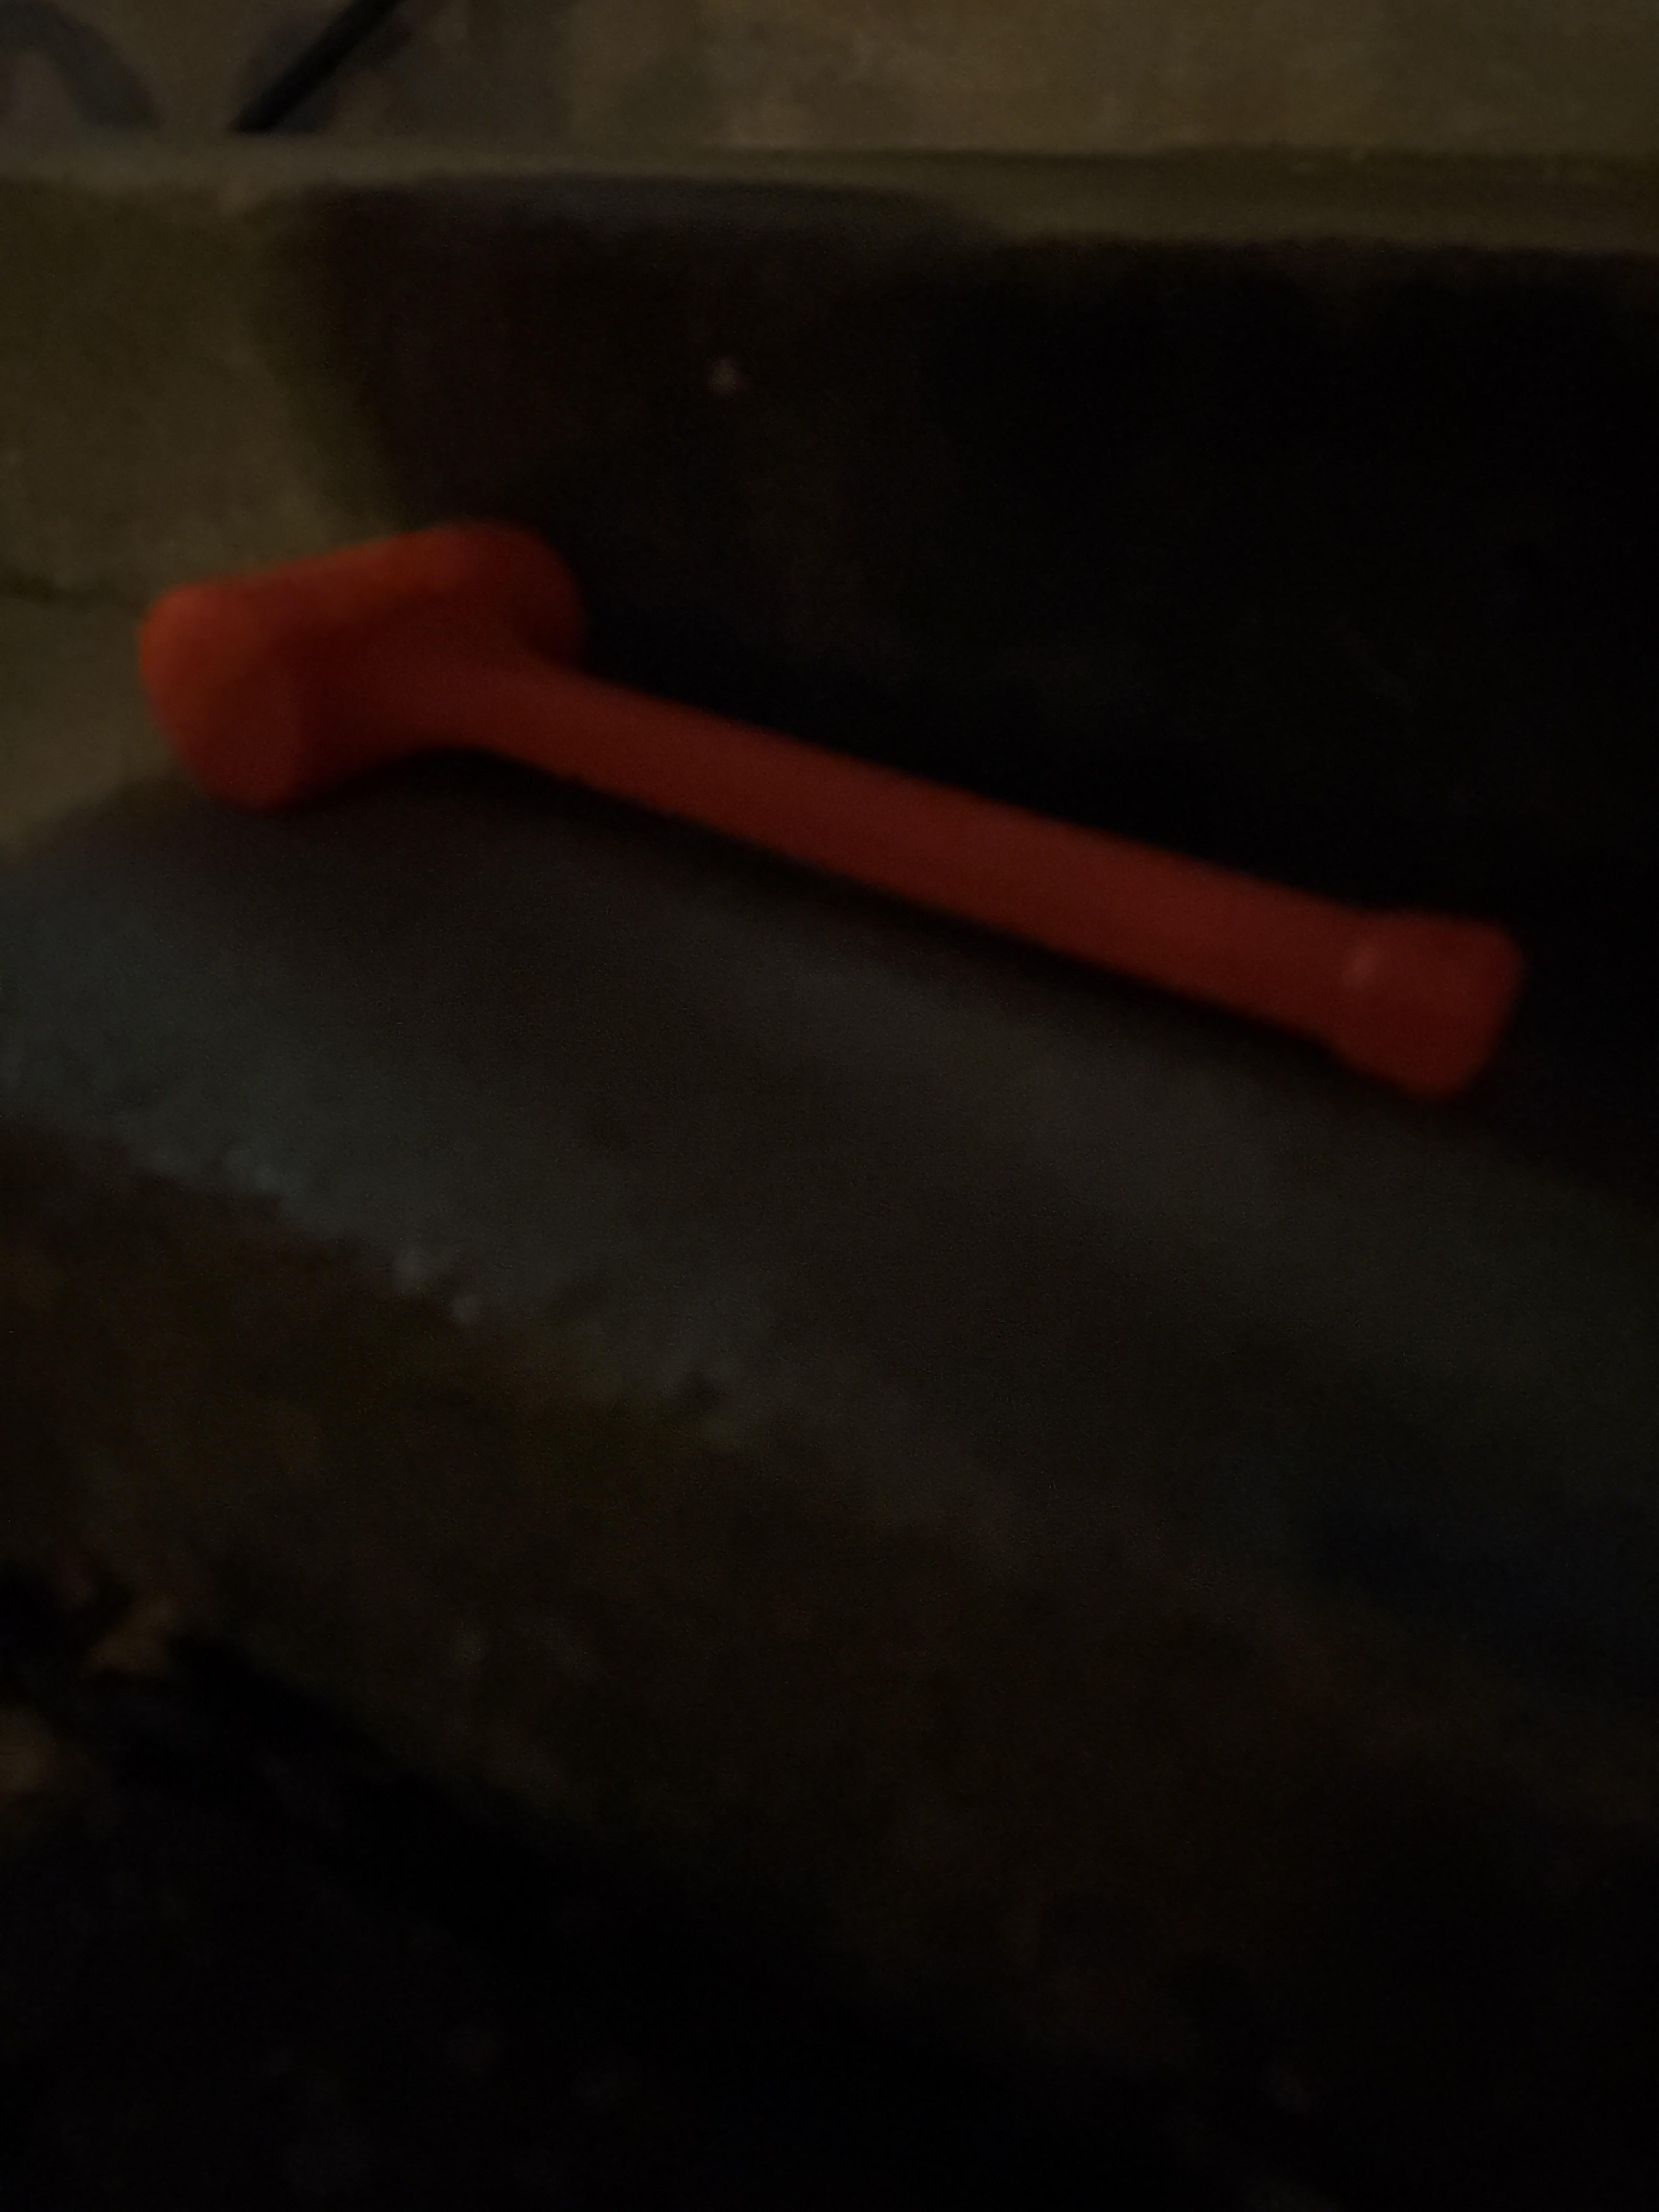Hammer: (134, 432, 1549, 1170)
